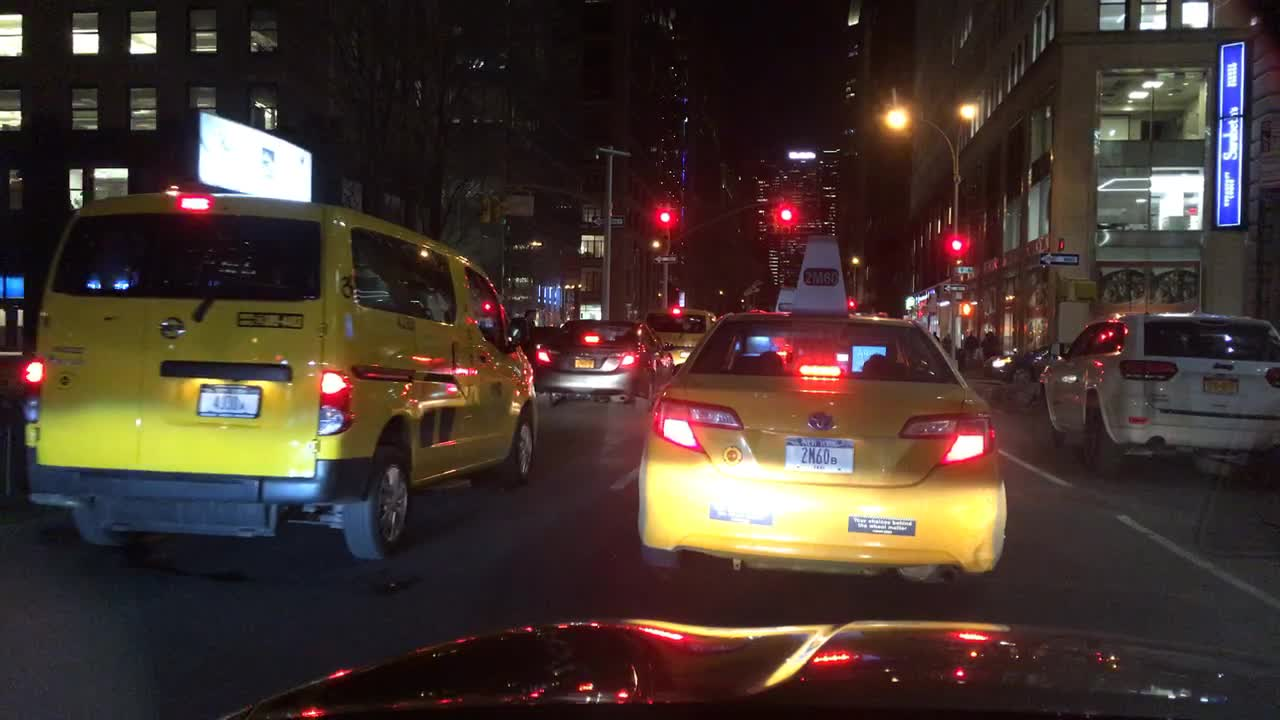car: (14, 189, 542, 568), (635, 311, 1013, 603), (1040, 302, 1275, 476), (535, 316, 674, 408), (648, 301, 718, 360), (986, 343, 1082, 381)
person: (966, 327, 978, 362), (984, 329, 998, 358), (946, 333, 955, 358)
traffic light: (774, 204, 794, 228), (656, 204, 672, 229), (946, 236, 963, 256), (958, 300, 975, 319)
traffic sign: (1041, 252, 1080, 266), (591, 215, 626, 229), (652, 254, 677, 264), (942, 283, 965, 292), (956, 264, 973, 271)
